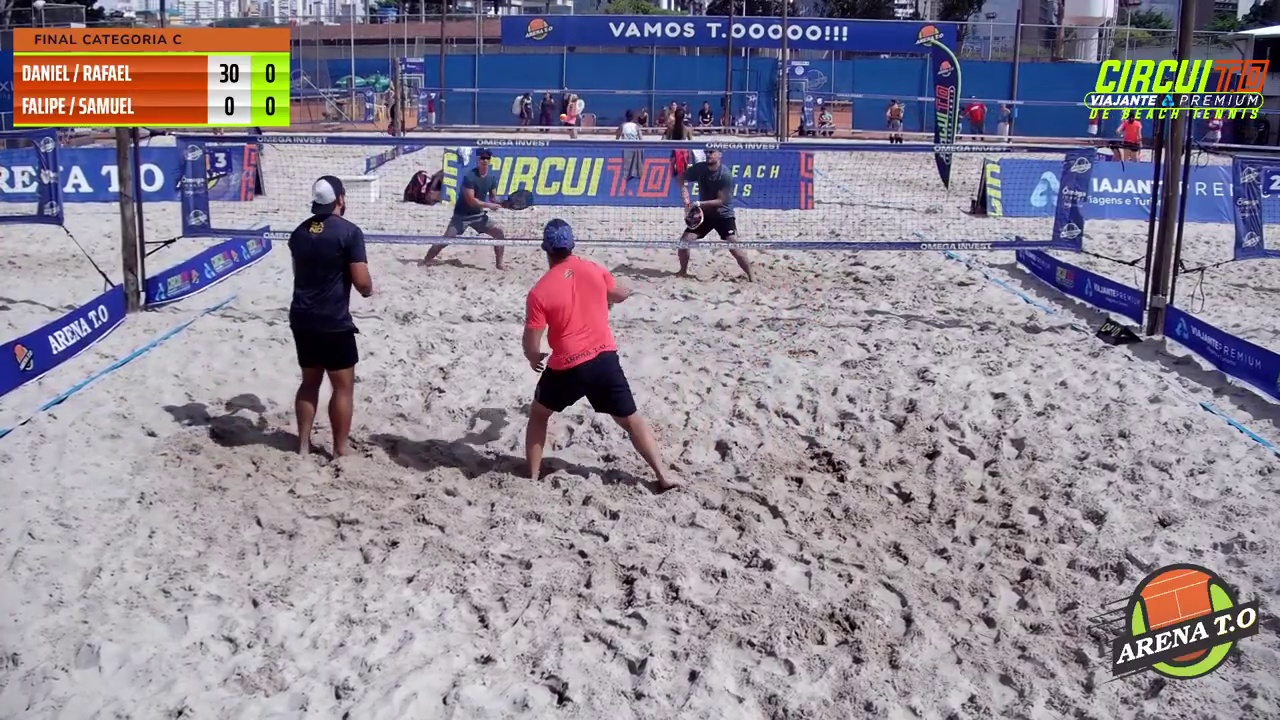court_line: (474, 0, 673, 469)
